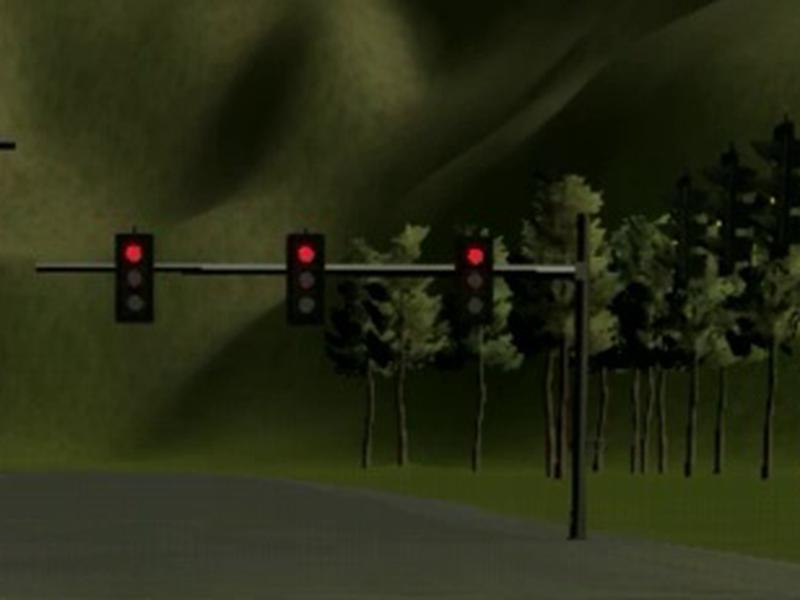Red: (114, 233, 154, 324), (286, 233, 325, 326), (455, 236, 494, 326)
